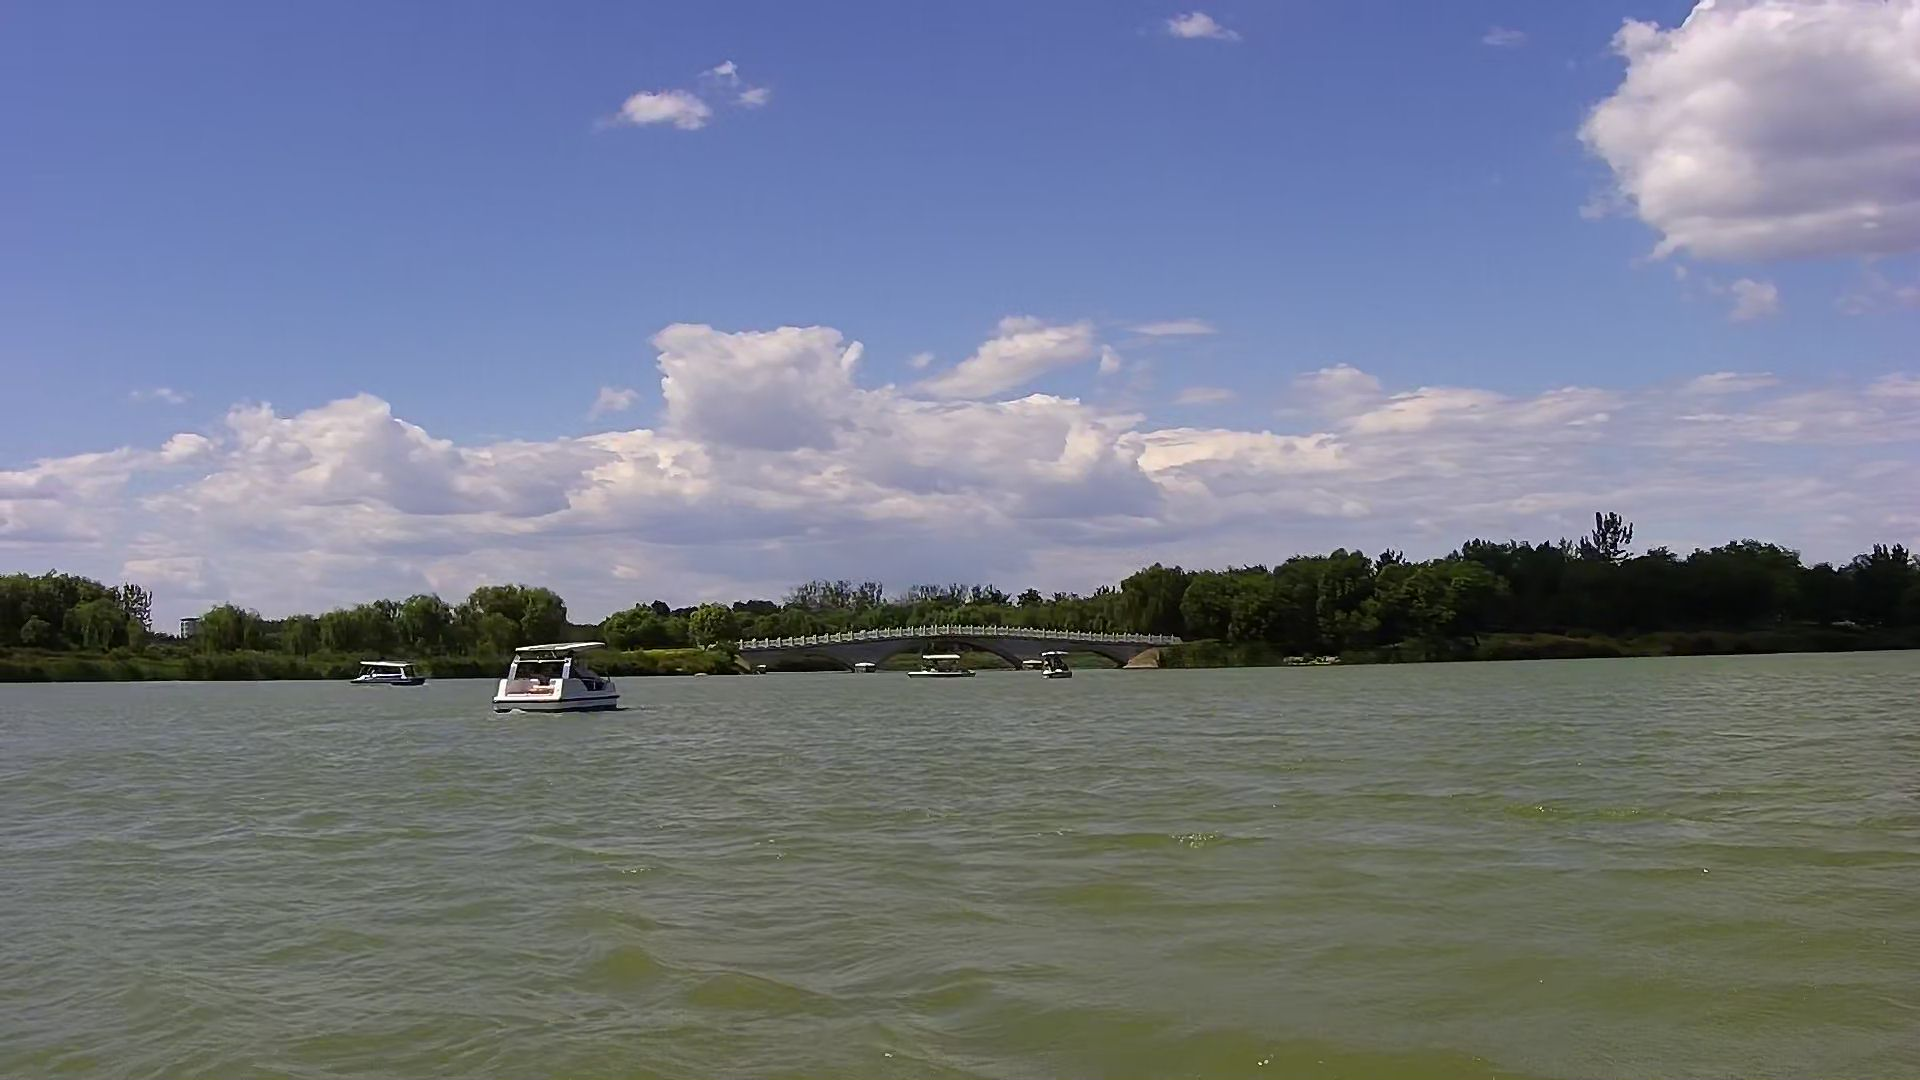boat: (497, 634, 622, 713), (336, 649, 447, 691), (909, 645, 982, 687), (1029, 640, 1080, 682)
bridge: (725, 613, 1171, 671)
